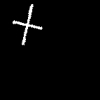single_crochet: (13, 4, 41, 44)
